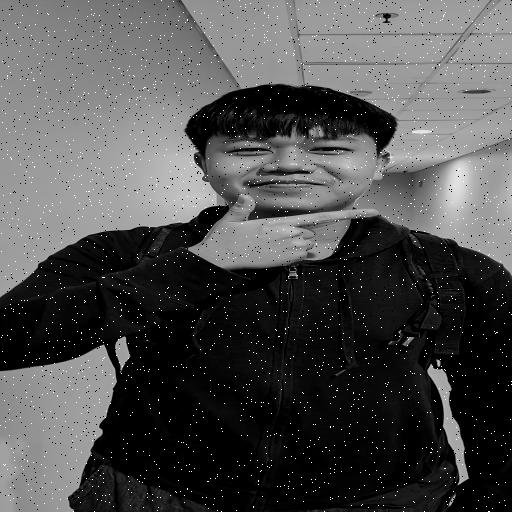next: (172, 188, 410, 285)
